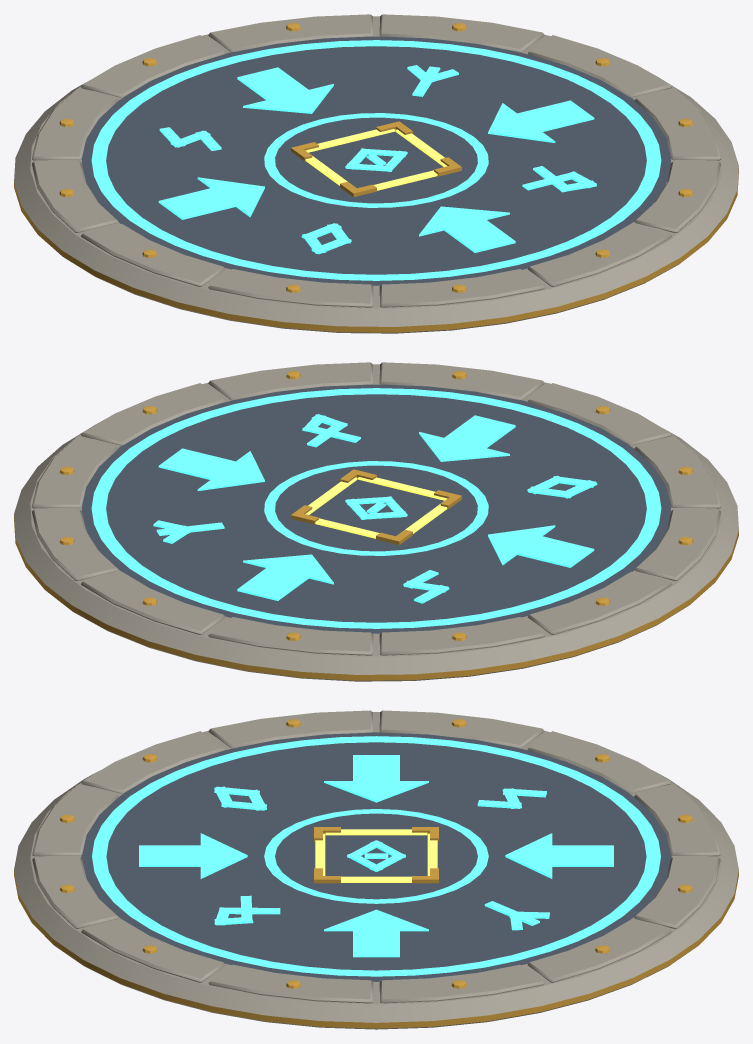
The model's file is prop_goal_pad.glb.
3 renders of one model, top to bottom at view 1: azimuth 30°, elevation 25°; view 2: azimuth 150°, elevation 25°; view 3: azimuth 270°, elevation 25°, orthographic.
Parts seen in each view (by area): view 1: GoalPad; view 2: GoalPad; view 3: GoalPad.
Part boxes in pixels (x1=…): GoalPad: x1=14, y1=14, x2=738, y2=333; GoalPad: x1=14, y1=362, x2=738, y2=681; GoalPad: x1=14, y1=710, x2=738, y2=1029.
Size of what is drawn, in the model's own units: 8 by 0.31 by 8.
